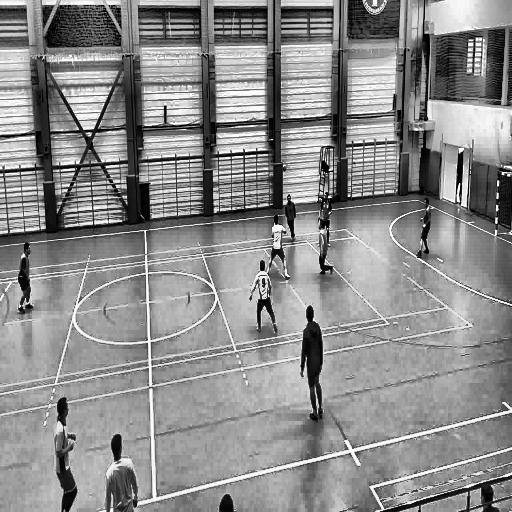ball: (280, 162, 288, 174)
player: (300, 303, 326, 426), (52, 395, 78, 512), (105, 431, 138, 512), (248, 261, 279, 335), (263, 214, 291, 282), (16, 241, 36, 317), (415, 195, 432, 263), (318, 220, 336, 278), (318, 190, 335, 248), (284, 192, 298, 244)
